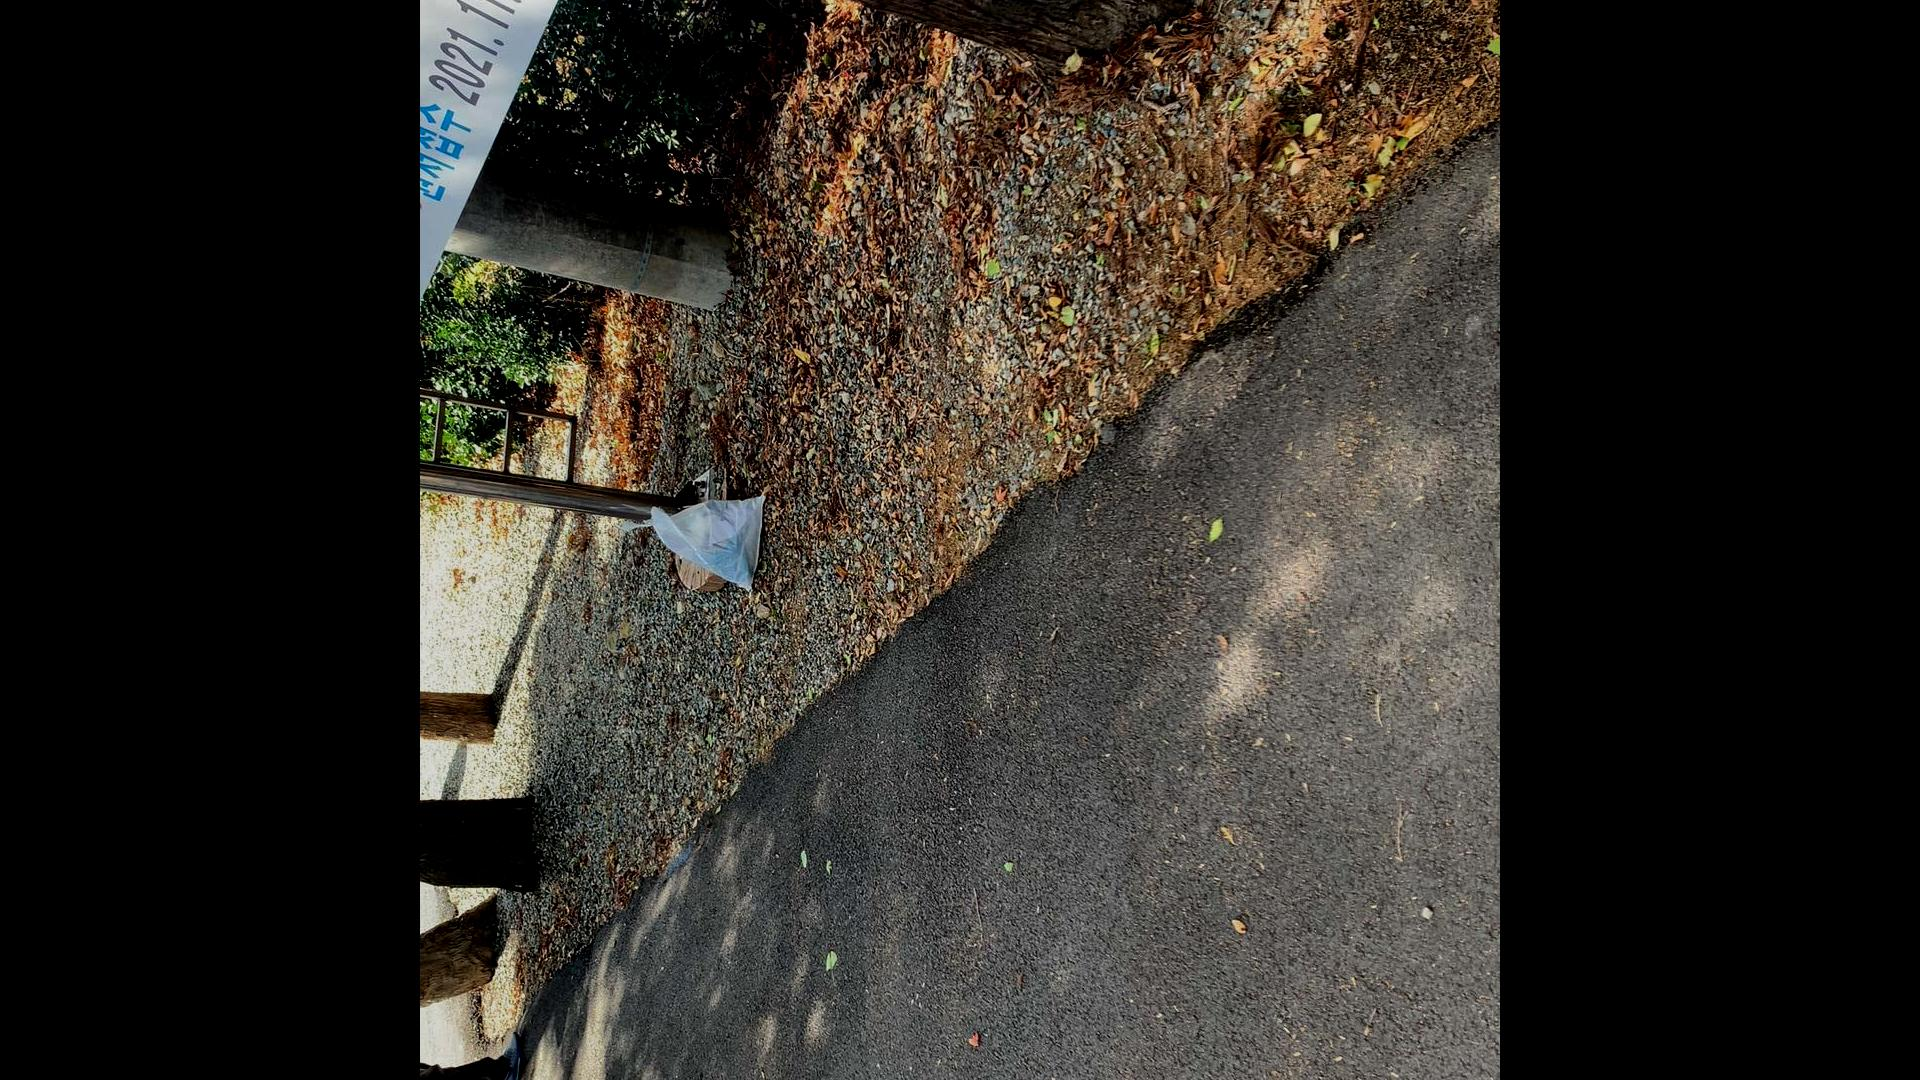white_bag: (609, 484, 782, 615)
